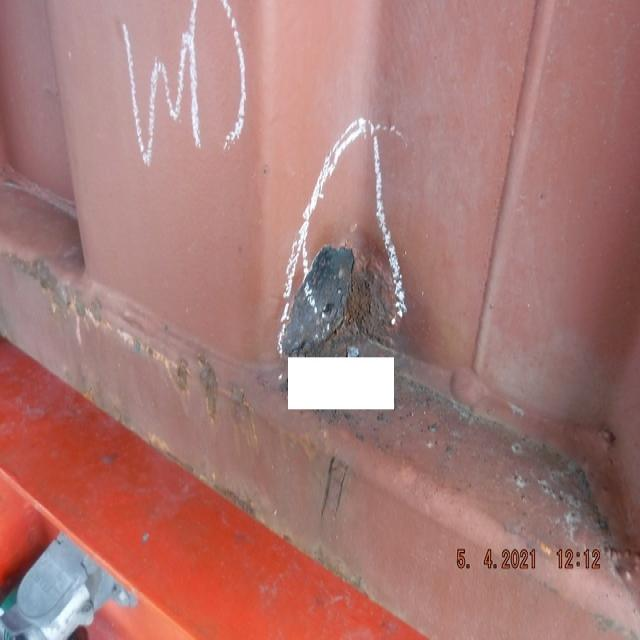rust: (279, 244, 359, 362), (348, 259, 399, 351)
